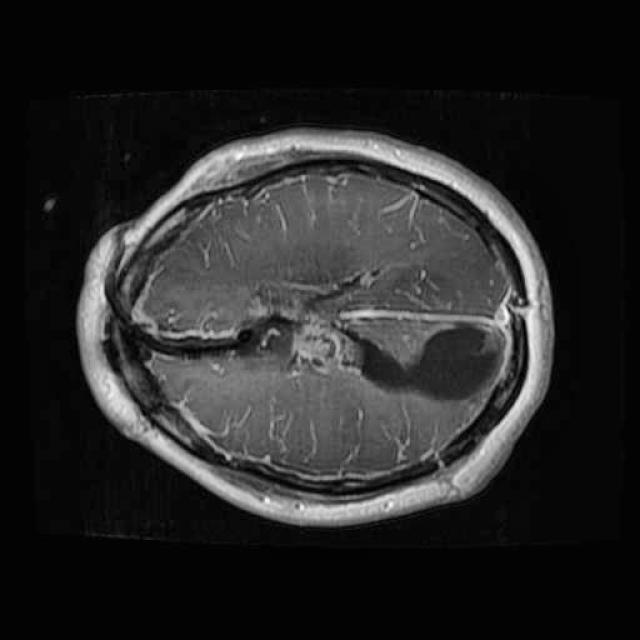Tumor: (137, 297, 509, 408)
